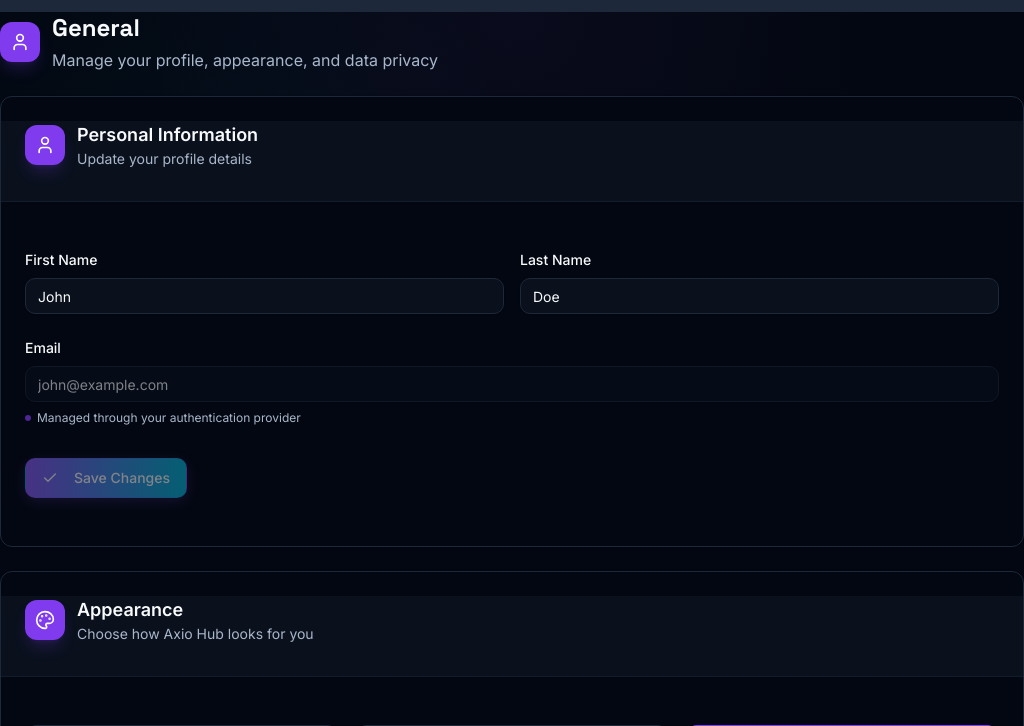
Test: GeneralSettings - Danger Zone › Profile Settings › should show saving state while profile update is pending
# Must modify a field first so isDirty becomes true and Save Changes is enabled
Type "Jane" into the field labelled "First Name" at (264, 296), box [25,278,504,314]
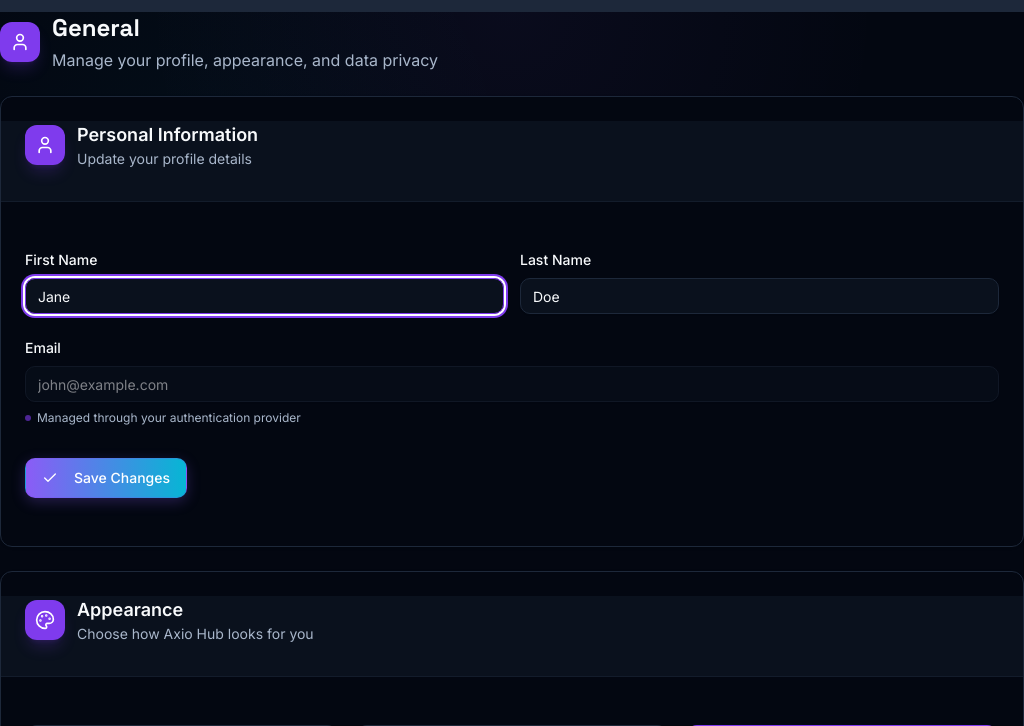
Click the button "Save Changes" at (106, 478), box [25,458,187,498]
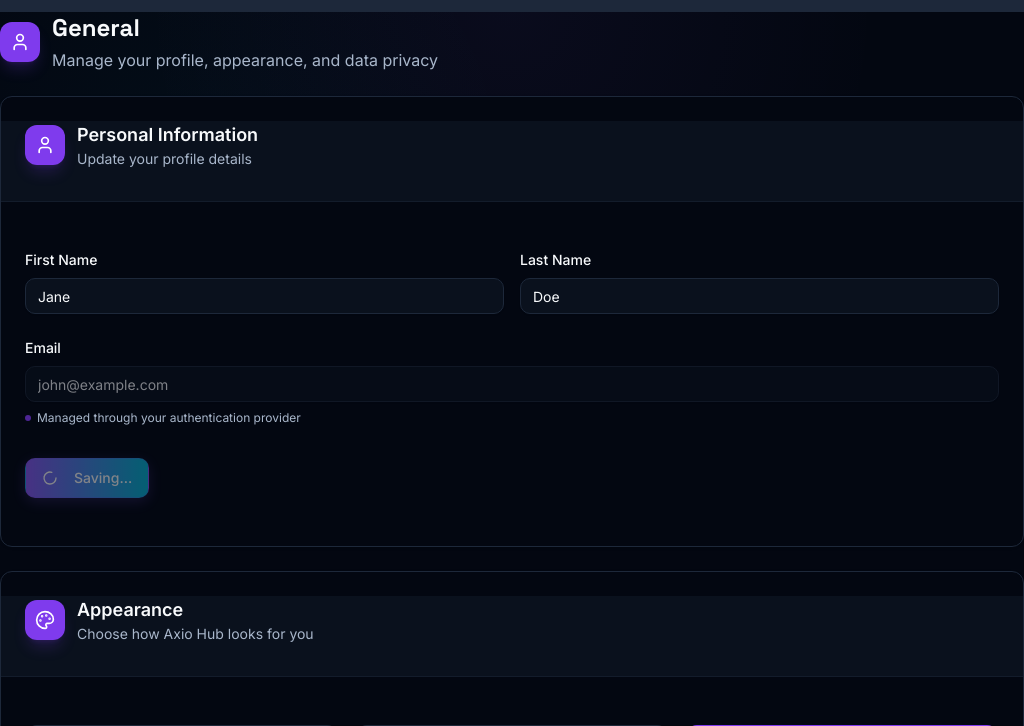
Expected: the button "Saving..." is shown, [25,458,149,498]
